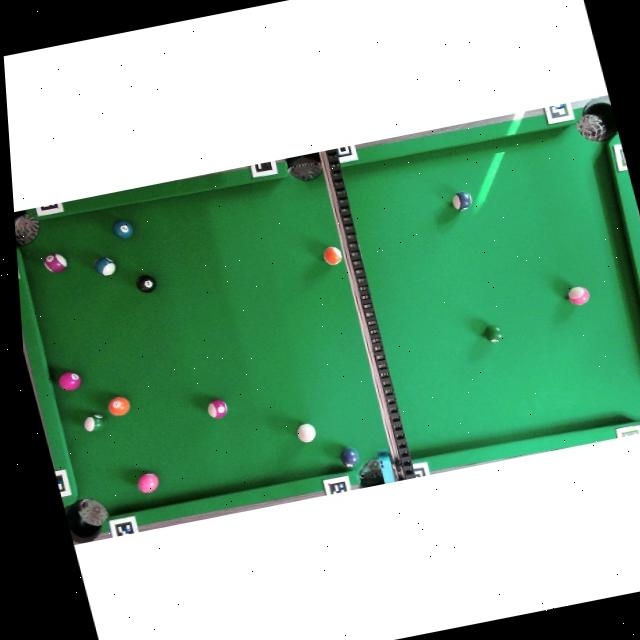cue ball: (295, 422, 319, 444)
other: (480, 321, 509, 346), (42, 251, 70, 275), (110, 217, 136, 242), (57, 369, 84, 393), (105, 394, 132, 418), (565, 284, 592, 308), (133, 272, 160, 296), (205, 398, 231, 421), (135, 472, 161, 494), (92, 256, 118, 278), (450, 190, 475, 212), (321, 244, 344, 266), (339, 446, 361, 469), (82, 413, 107, 433)
